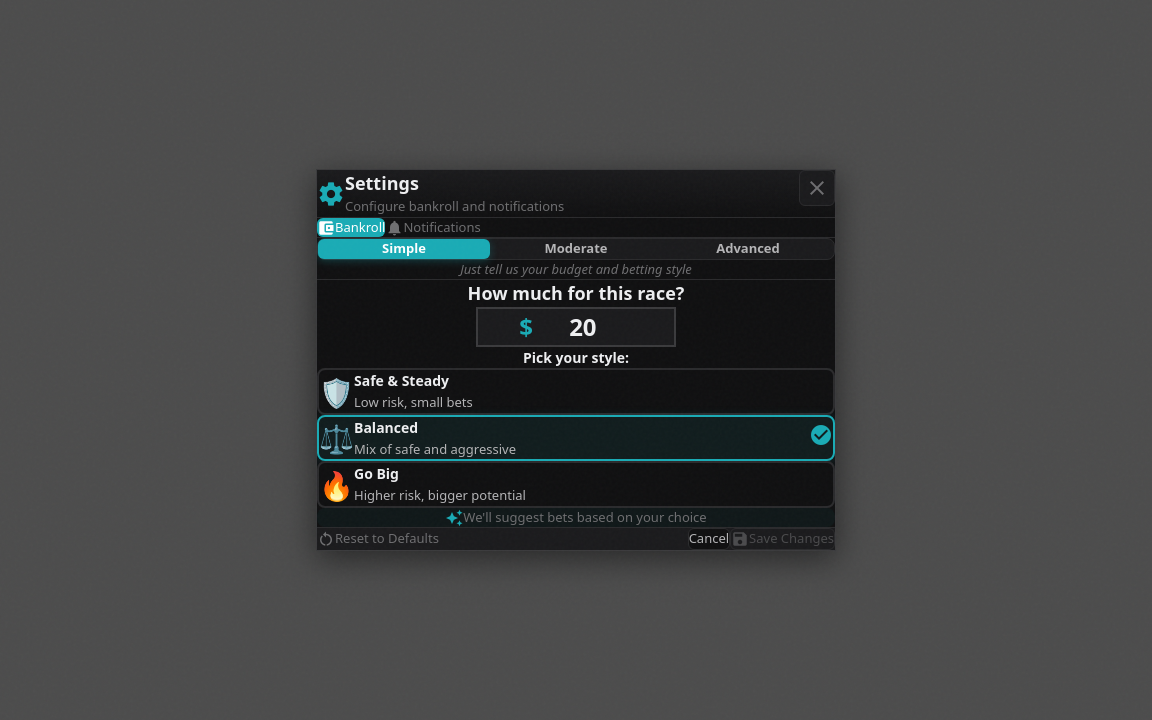
Test: BankrollSettings › Complexity Mode Toggle › switches to moderate mode when clicked
Click the button "Moderate" at (576, 249), box [490, 239, 662, 259]
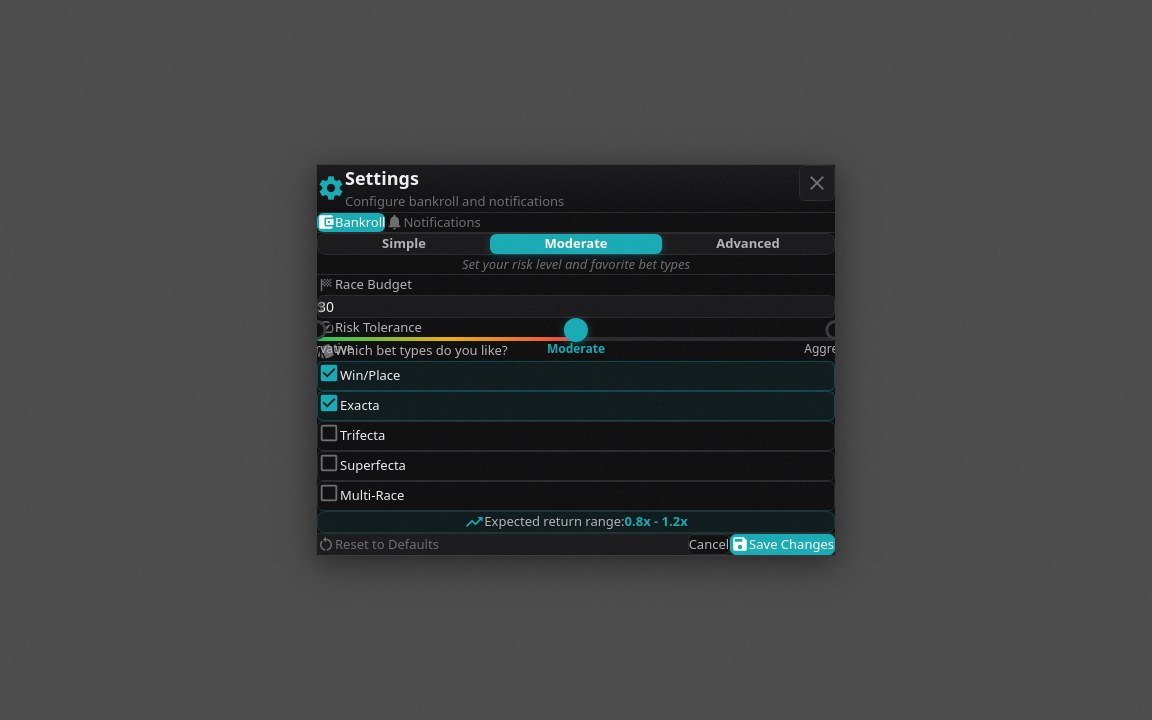
Expected: the text "Race Budget" is shown, [317, 275, 412, 294]
Expected: the text "Risk Tolerance" is shown, [317, 318, 422, 336]
Expected: the text "Which bet types do you like?" is shown, [317, 341, 508, 360]
